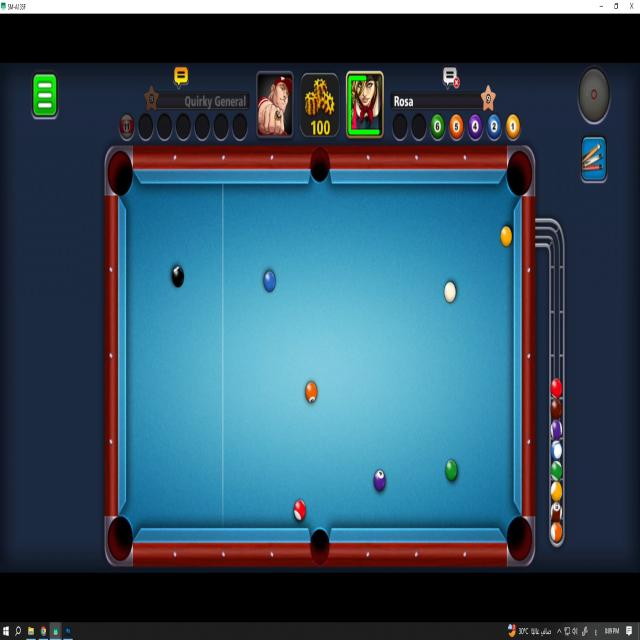object_ball: (374, 469, 386, 492), (172, 266, 183, 287), (264, 271, 275, 292), (446, 460, 457, 481), (501, 226, 512, 247), (306, 382, 317, 402), (294, 500, 305, 520)
white_cue_ball: (444, 282, 455, 302)
